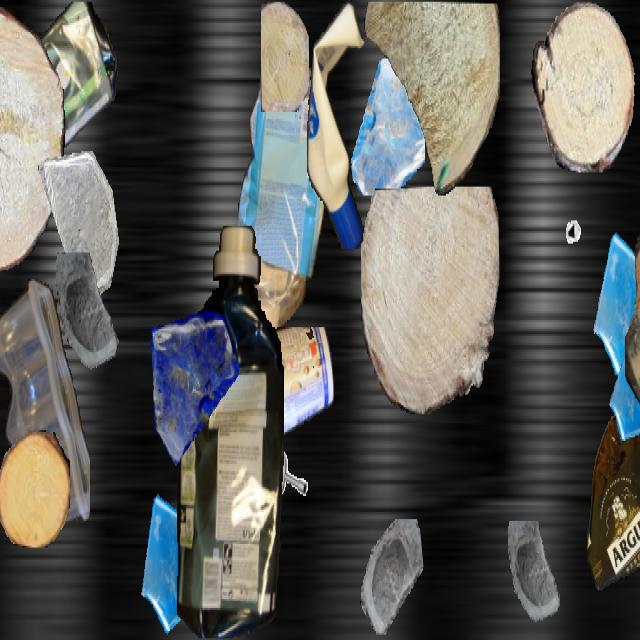glass: (145, 306, 239, 473), (137, 478, 227, 638), (38, 151, 122, 301), (51, 253, 129, 391), (348, 58, 424, 194), (591, 220, 640, 384), (503, 521, 569, 638), (359, 519, 423, 633), (609, 338, 640, 452)
metal: (266, 448, 314, 533), (563, 190, 601, 258)
plastic: (176, 226, 284, 638), (238, 62, 324, 372), (0, 279, 90, 532), (0, 2, 119, 183), (307, 2, 371, 247), (234, 327, 334, 452), (587, 398, 640, 590)
wood: (361, 187, 499, 414), (364, 2, 500, 194), (531, 2, 635, 172), (0, 7, 64, 270), (0, 430, 69, 548), (261, 2, 309, 112), (625, 217, 640, 427)
